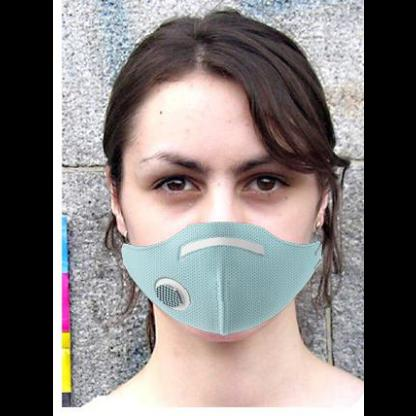FFP Mask: (108, 52, 341, 338)
